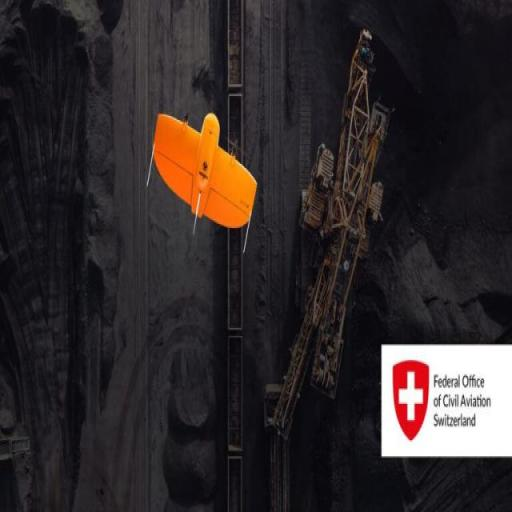uav: (136, 101, 279, 261)
